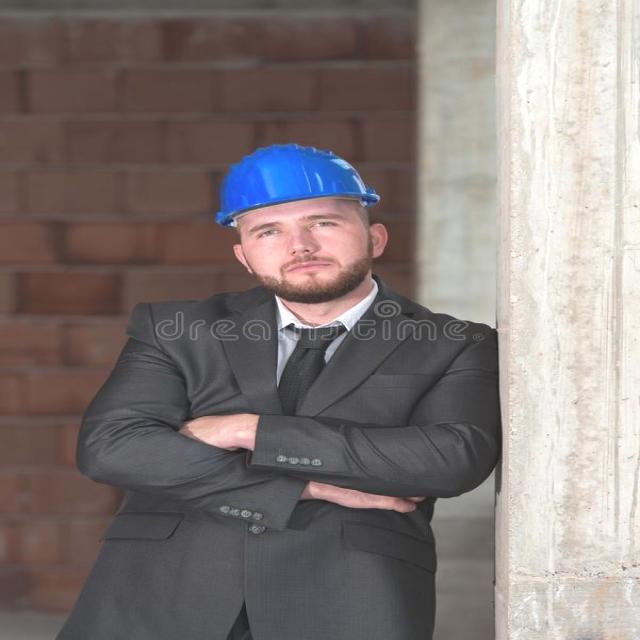face_nomask: (224, 200, 399, 304)
head_helmet: (215, 144, 383, 197)
person: (72, 149, 502, 630)
